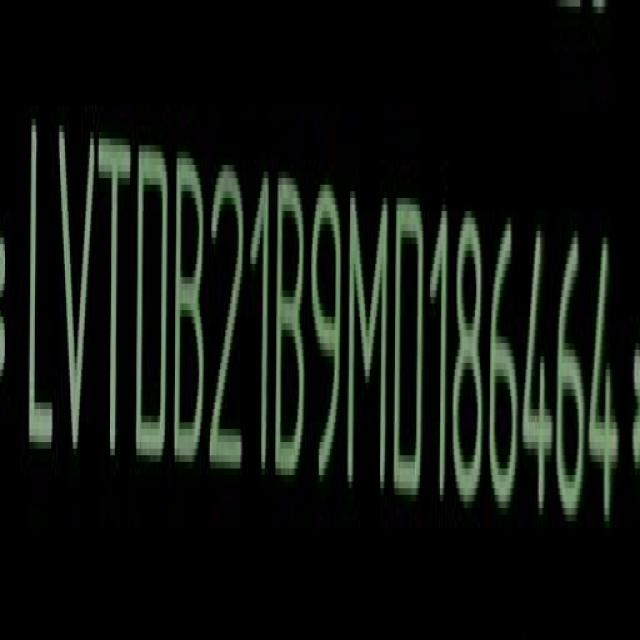1: (251, 167, 274, 487), (428, 196, 450, 512)
2: (208, 157, 245, 481)
4: (591, 235, 625, 532), (522, 221, 554, 522)
6: (489, 213, 521, 517), (555, 229, 587, 529)
8: (454, 207, 487, 511)
9: (311, 178, 344, 494)
B: (174, 148, 209, 479), (275, 169, 307, 488)
D: (134, 132, 168, 475), (395, 188, 427, 508)
L: (23, 104, 55, 466)
M: (348, 180, 391, 504)
T: (95, 125, 134, 479)
V: (54, 112, 96, 470)
